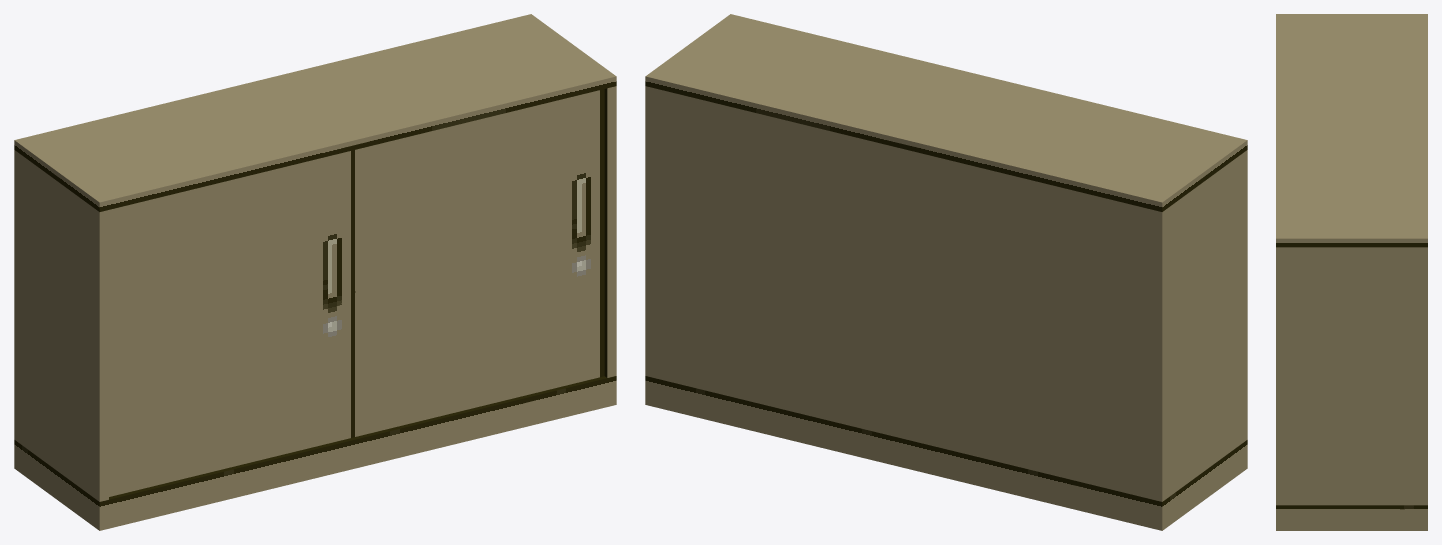
The model's file is prop_cabinet_02.obj.
3 views of the same model, side by side, from view 1: azimuth 30°, elevation 25°; view 2: azimuth 150°, elevation 25°; view 3: azimuth 270°, elevation 25° (orthographic). The views are drawn at different scales.
Visible parts, largest first — view 1: entity1_brush0, entity1_brush2, entity1_brush4, entity1_brush3, entity1_brush1; view 2: entity1_brush0, entity1_brush2, entity1_brush4, entity1_brush3, entity1_brush1; view 3: entity1_brush1, entity1_brush2, entity1_brush3.
Part boxes in pixels (bbox=[...]): entity1_brush0: bbox=[109, 89, 604, 496]; entity1_brush2: bbox=[14, 14, 616, 211]; entity1_brush4: bbox=[14, 150, 108, 501]; entity1_brush3: bbox=[14, 376, 616, 530]; entity1_brush1: bbox=[604, 86, 616, 377]; entity1_brush0: bbox=[654, 88, 1152, 499]; entity1_brush2: bbox=[645, 14, 1247, 211]; entity1_brush4: bbox=[1153, 150, 1247, 501]; entity1_brush3: bbox=[645, 376, 1247, 530]; entity1_brush1: bbox=[645, 86, 654, 377]; entity1_brush1: bbox=[1276, 247, 1427, 505]; entity1_brush2: bbox=[1276, 14, 1427, 247]; entity1_brush3: bbox=[1276, 505, 1427, 530].
Bounding box in the file's own units: 112 × 68 × 32.
